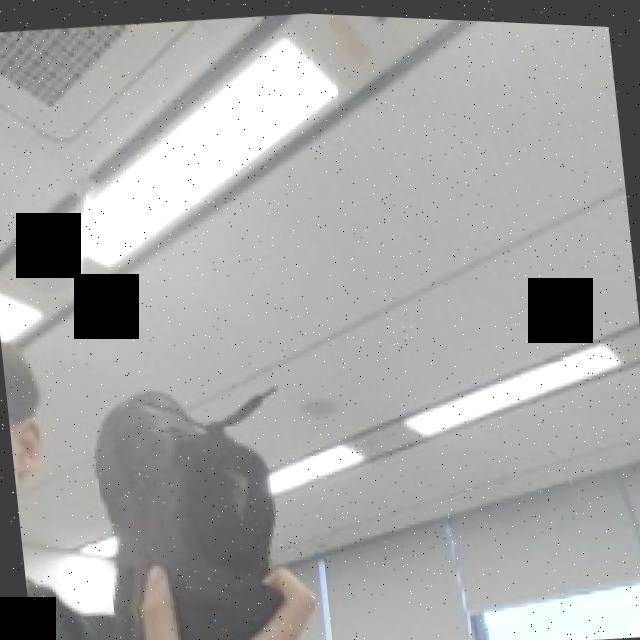shoe: (68, 342, 324, 640)
